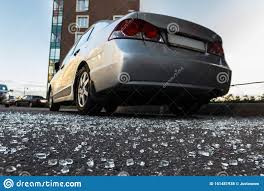car: (49, 18, 233, 112)
